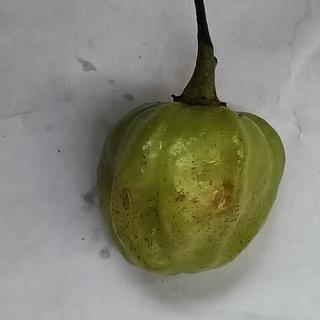Defect: (200, 172, 246, 222), (110, 178, 143, 224)
